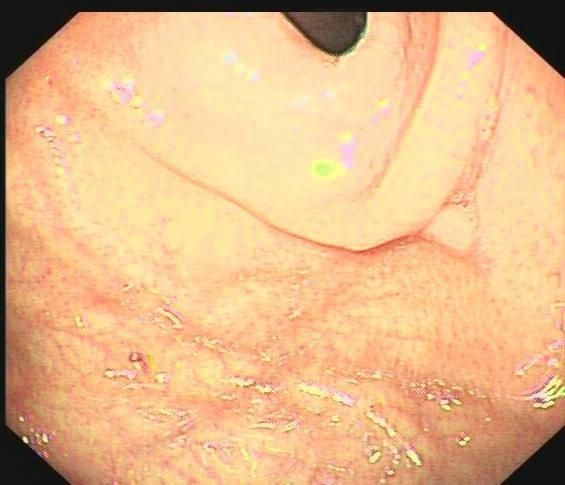Polyp: (419, 202, 476, 258)
